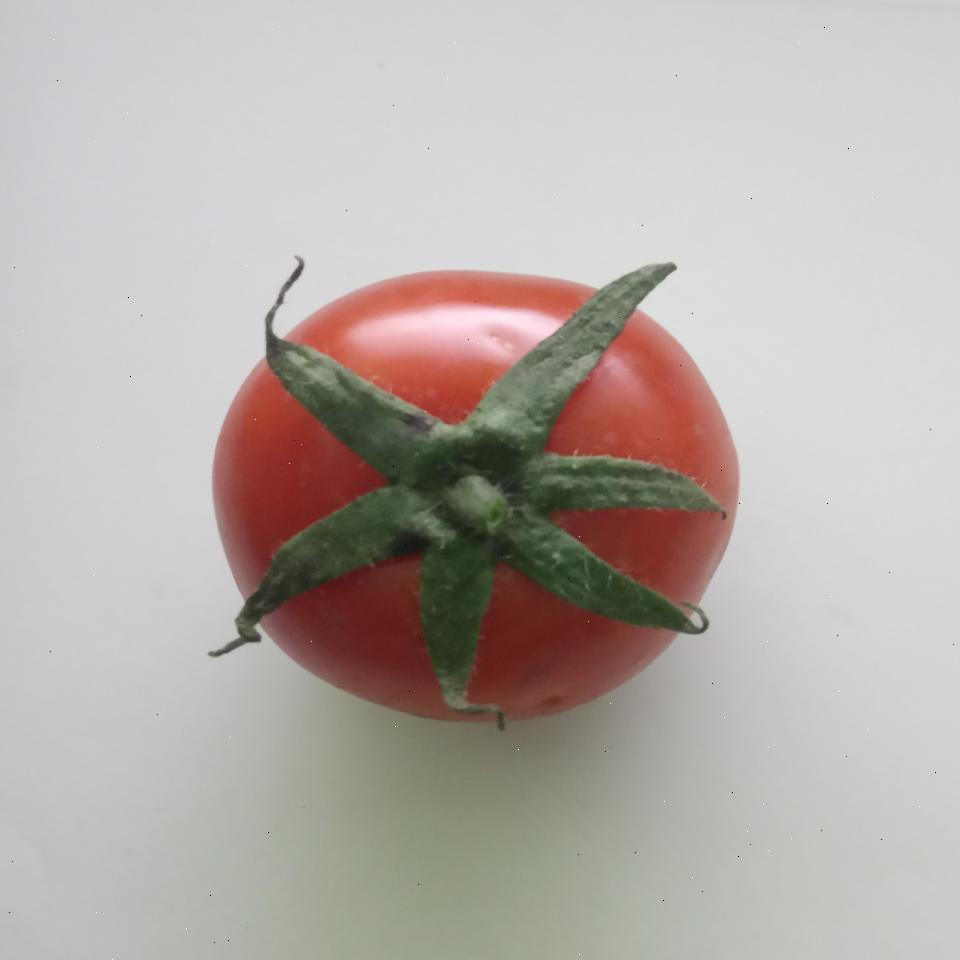Healthy: (210, 232, 754, 736)
